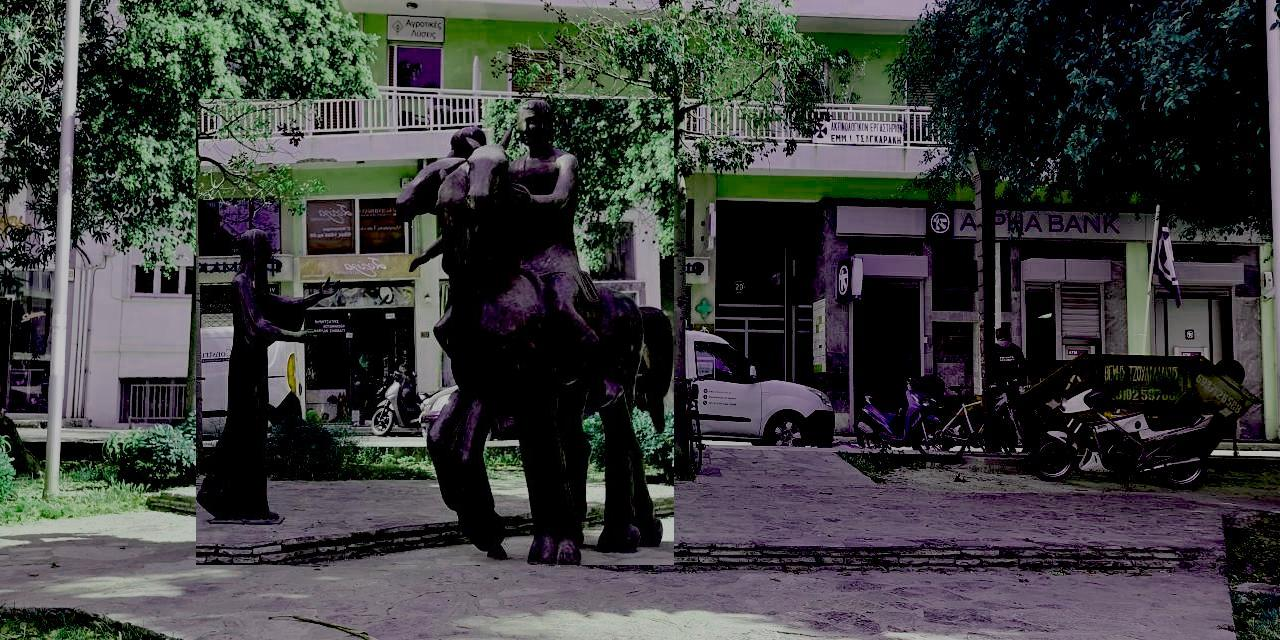Aretousa: (197, 100, 675, 566)
